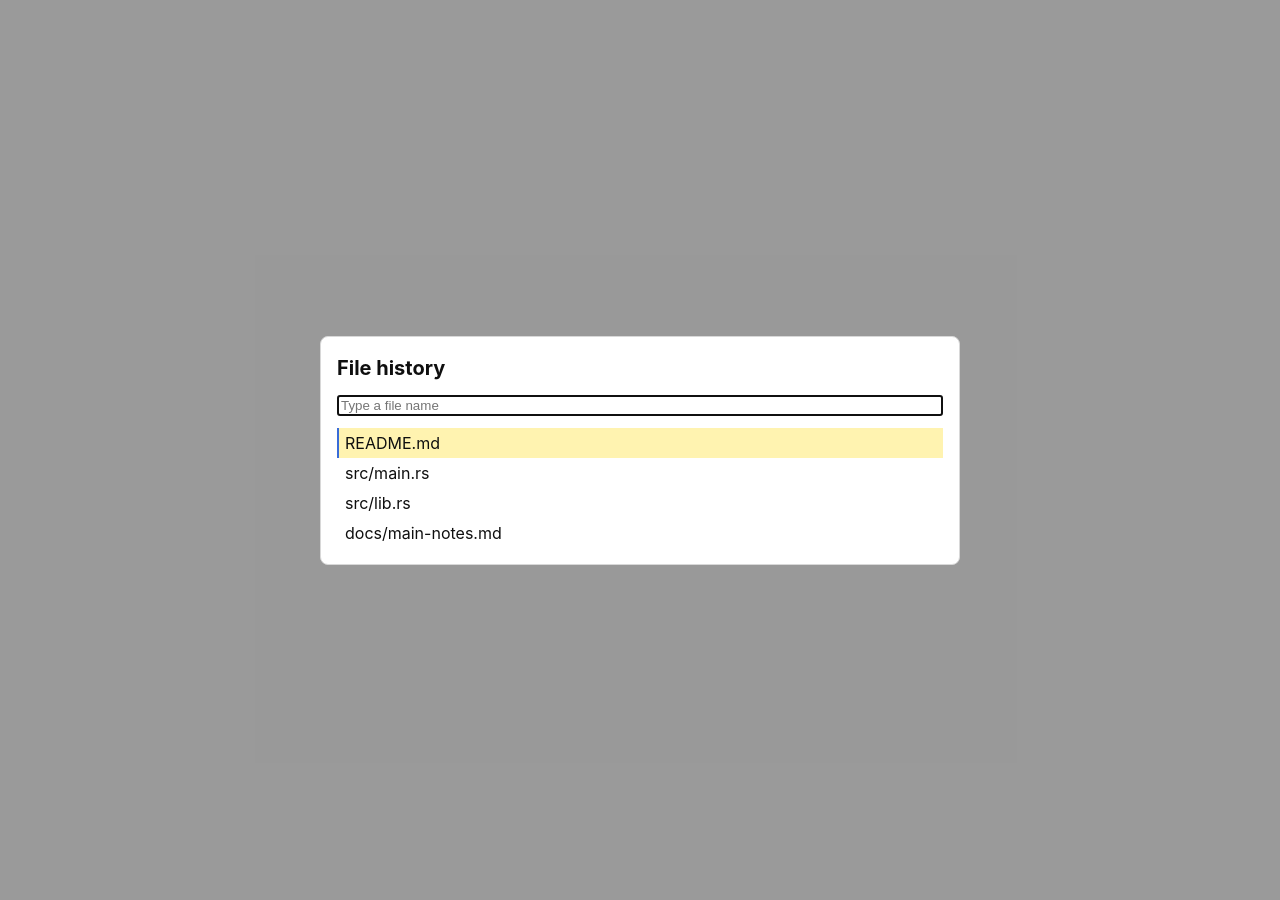
Test: FilePickerDialog filtering › should show No matching files when nothing matches
The width and height of the screenshot is (1280, 900).
In the search field named "Find file": (640,405) [337,394,943,416], type "zzzzz"
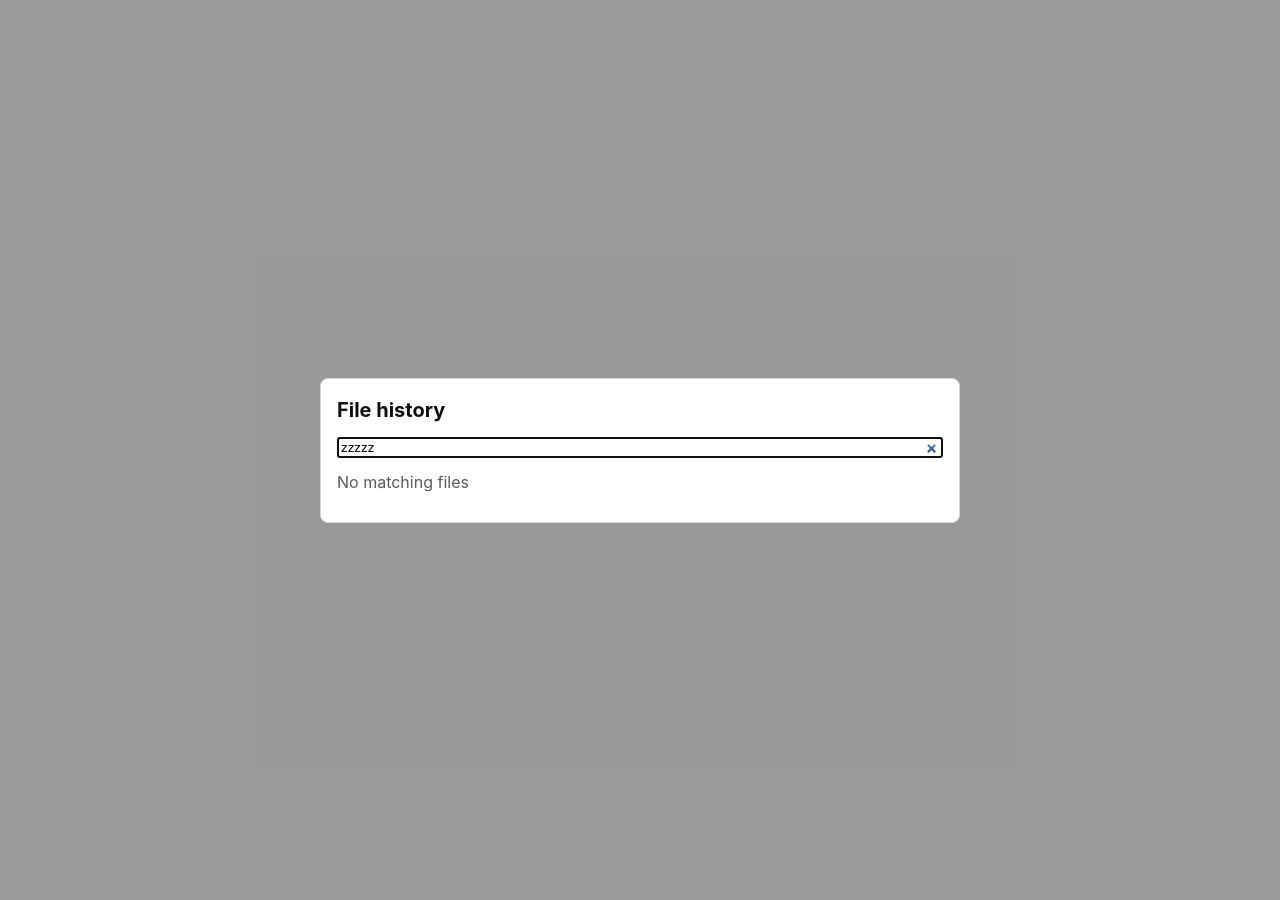
Result: the text "No matching files" is shown at [337,472,469,492]
